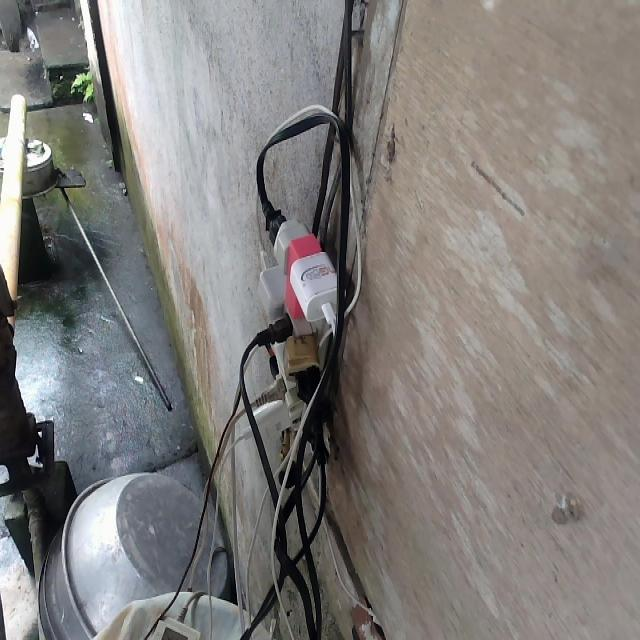-: (235, 214, 348, 462)
